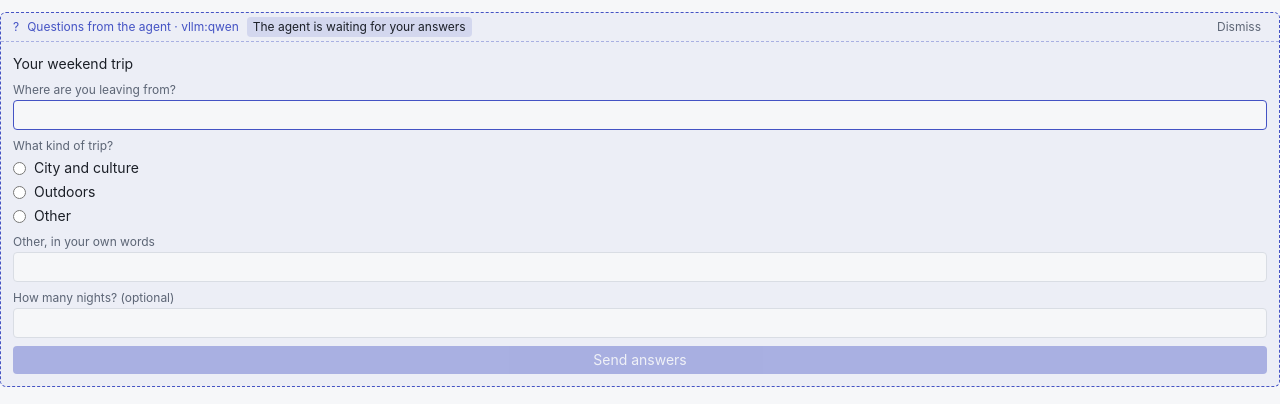
Test: the agent's questions (ask_user) › reads as the agent's questions, takes the focus, and sends the answers from Send
expect the element "Questions from the agent" shows "The agent is waiting for your answers": met, box left=253, top=19, right=466, bottom=34
expect the element "Questions from the agent" shows "Your weekend trip": met, box left=13, top=55, right=133, bottom=72
Step 1. Type "Boston" into the field labelled "Where are you leaving from?" → (640, 115), box left=13, top=100, right=1267, bottom=130
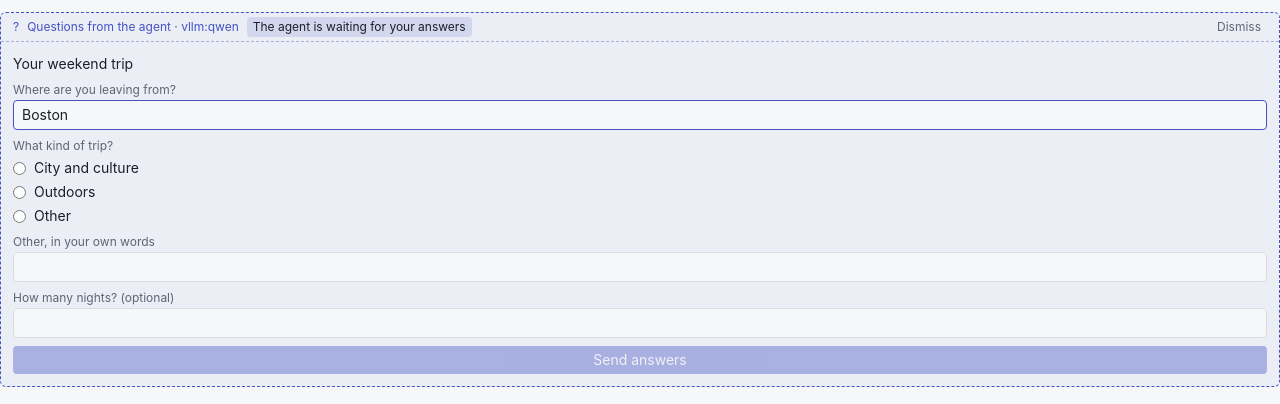
Step 2. Click the radio button labelled "Other" → (20, 216), box left=13, top=210, right=26, bottom=222
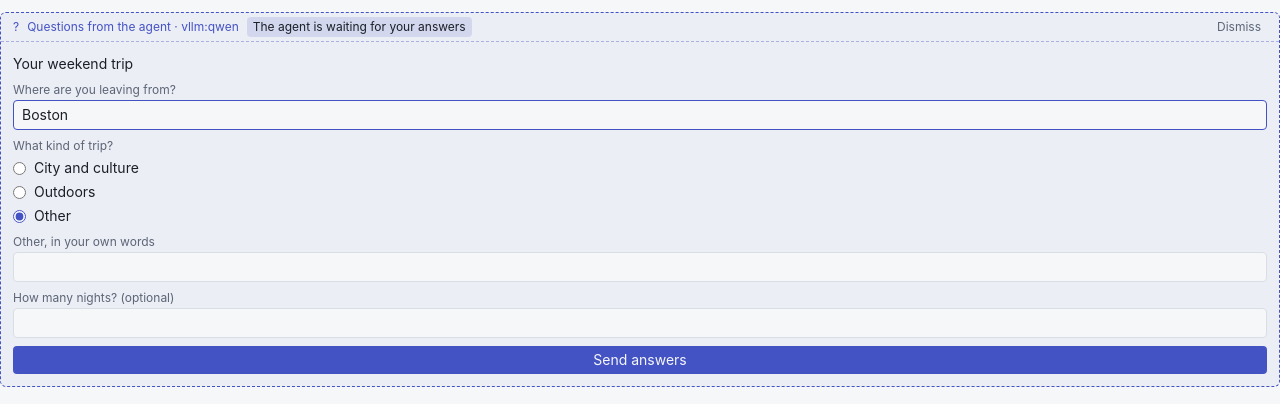
Step 3. Type "A food tour" into the field labelled "Other, in your own words" → (640, 267), box left=13, top=252, right=1267, bottom=282
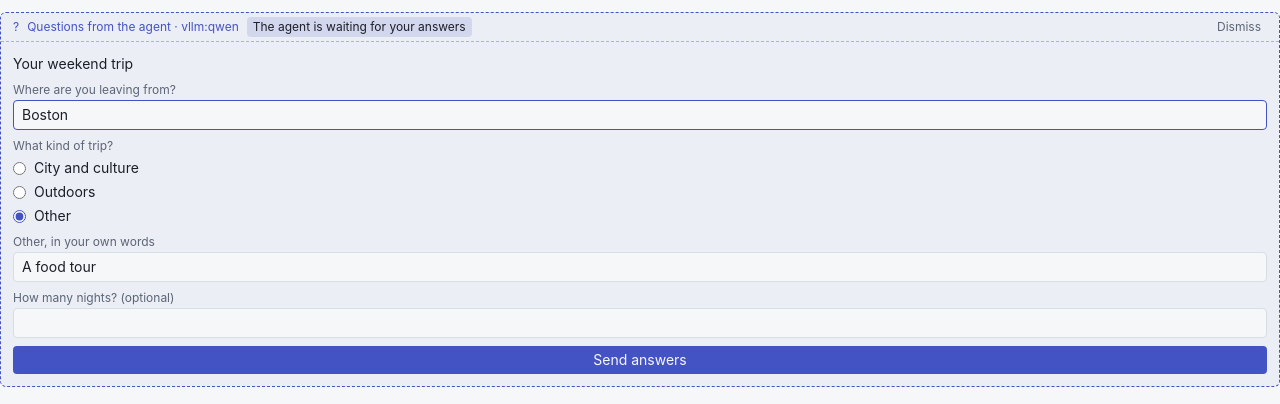
expect the button "Send answers" is enabled: met
Step 4. Click the button "Send answers" → (640, 360), box left=13, top=346, right=1267, bottom=374
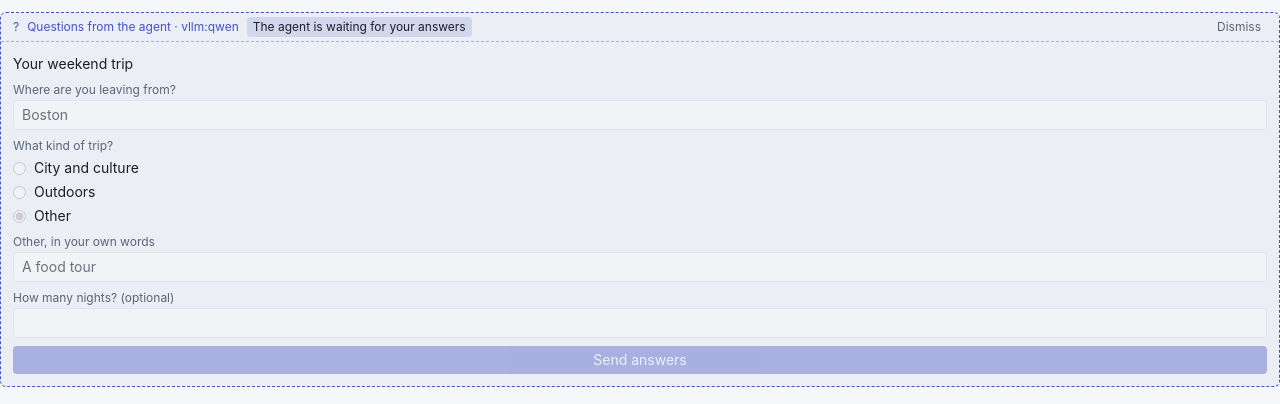
expect the field labelled "Where are you leaving from?" is disabled: met, box left=13, top=100, right=1267, bottom=130
